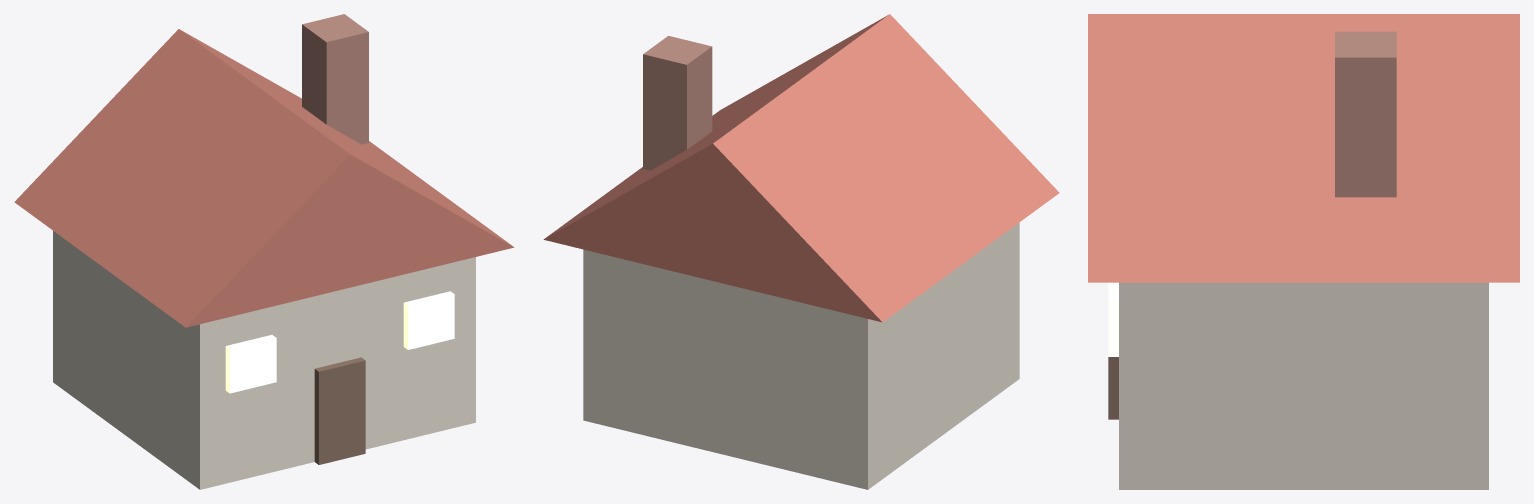
The model's file is house.glb.
The picture shows the model from 3 angles, left to right: view 1: azimuth 30°, elevation 25°; view 2: azimuth 150°, elevation 25°; view 3: azimuth 270°, elevation 25°; orthographic projection. The views are drawn at different scales.
Visible parts, largest first — view 1: prism, box.001, box, box.002, box.004, box.003; view 2: prism, box.001, box; view 3: prism, box.001, box, box.003, box.002.
Part boxes in pixels (x1=…): prism: x1=14, y1=29, x2=514, y2=327; box.001: x1=53, y1=231, x2=475, y2=489; box: x1=302, y1=14, x2=368, y2=144; box.002: x1=314, y1=357, x2=365, y2=464; box.004: x1=225, y1=335, x2=276, y2=393; box.003: x1=403, y1=291, x2=454, y2=349; prism: x1=543, y1=14, x2=1059, y2=322; box.001: x1=583, y1=222, x2=1019, y2=489; box: x1=643, y1=36, x2=712, y2=170; prism: x1=1088, y1=14, x2=1519, y2=282; box.001: x1=1119, y1=282, x2=1488, y2=489; box: x1=1335, y1=31, x2=1396, y2=197; box.003: x1=1108, y1=282, x2=1118, y2=356; box.002: x1=1108, y1=357, x2=1118, y2=419.
Bounding box in the file's own units: 1.55 × 1.5 × 1.4.
